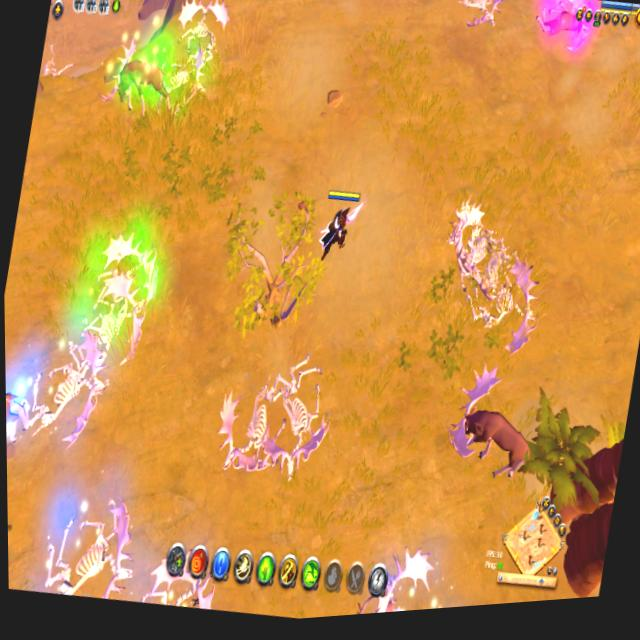mob: (528, 0, 594, 62)
ore: (439, 356, 548, 495), (97, 35, 184, 125), (6, 376, 36, 478)
red: (314, 182, 362, 263), (597, 0, 640, 21)
